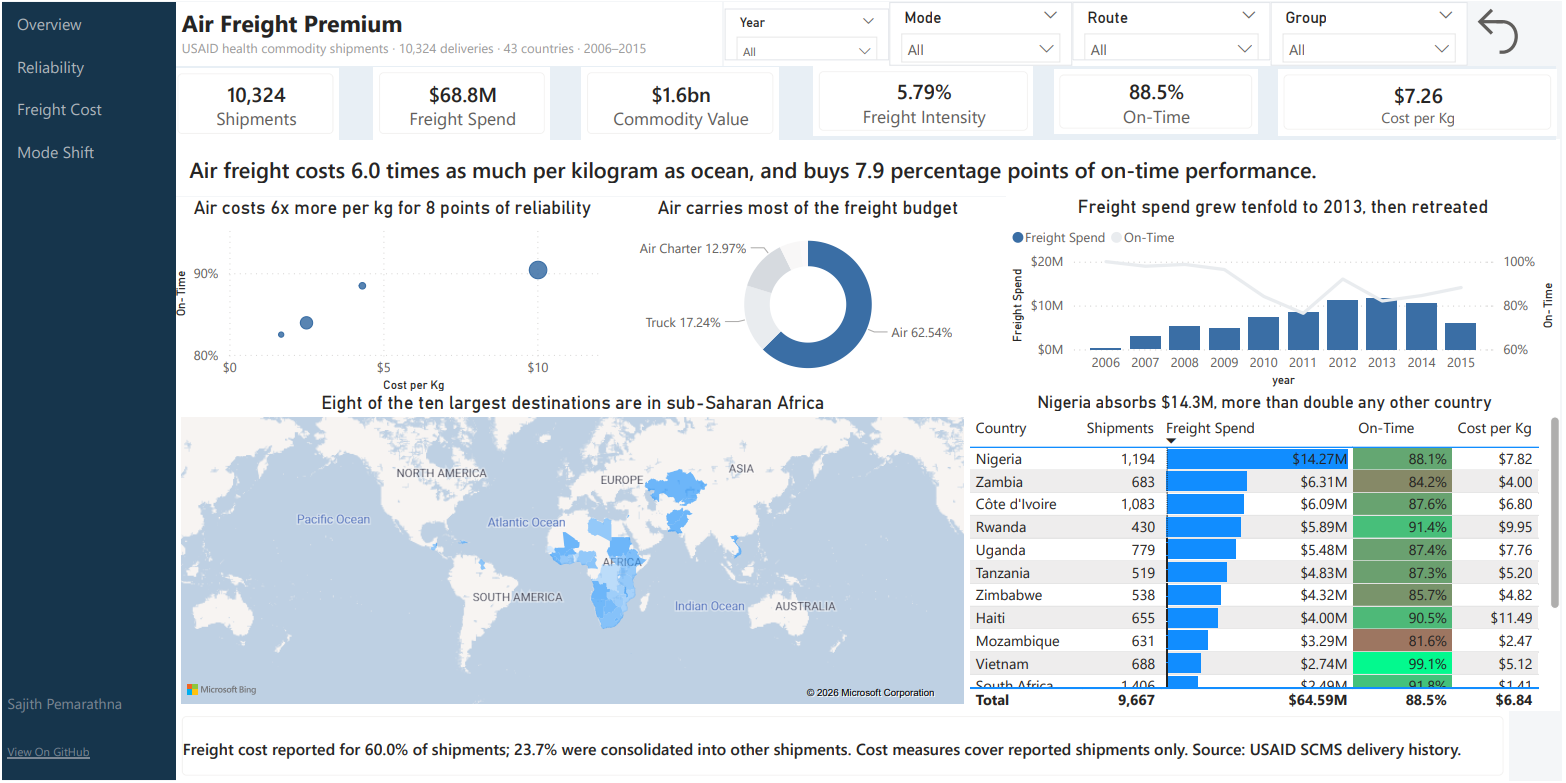

Layout of this report page (visuals, bound fields, positions):
{"tool":"powerbi","page":{"name":"Overview","canvas":[1440,720],"ordinal":0},"visuals":[{"type":"slicer","fields":{"Values":["dim_date.year"]},"box":[666.7,6.3,151.7,47.5],"z":0,"group":"g2"},{"type":"cardVisual","fields":{"Data":["_Measures.Shipments"]},"box":[156.5,60.8,153.6,66.3],"z":0,"group":"g1"},{"type":"scatterChart","title":"Air costs 6x more per kg for 8 points of reliability","fields":{"Y":["_Measures.On-Time %"],"Size":["_Measures.Shipments"],"Category":["dim_shipment_mode.Shipment Mode"],"X":["_Measures.Cost per Kg"]},"box":[159.5,179.8,401.3,179.7],"z":0},{"type":"slicer","fields":{"Values":["dim_shipment_mode.Shipment Mode"]},"box":[818.4,0,168.8,58.8],"z":1000,"group":"g2"},{"type":"cardVisual","fields":{"Data":["_Measures.Freight Intensity %"]},"box":[748.5,58.7,202.9,65.2],"z":1000,"group":"g1"},{"type":"donutChart","title":"Air carries most of the freight budget","fields":{"Category":["dim_shipment_mode.Shipment Mode"],"Y":["_Measures.Freight Spend"]},"box":[560.8,179.8,365.8,179.7],"z":1000},{"type":"slicer","fields":{"Values":["dim_product.Product Group"]},"box":[1171,0,181.6,58.8],"z":2000,"group":"g2"},{"type":"cardVisual","fields":{"Data":["_Measures.Commodity Value"]},"box":[534,60.1,182.6,66.7],"z":2000,"group":"g1"},{"type":"lineStackedColumnComboChart","title":"Freight spend grew tenfold to 2013, then retreated","fields":{"Category":["dim_date.year"],"Y":["_Measures.Freight Spend"],"Y2":["_Measures.On-Time %"]},"box":[927.3,179.2,510.4,180.5],"z":2000},{"type":"slicer","fields":{"Values":["fact_shipment.fulfil_via"]},"box":[987.2,0,183.8,53.8],"z":3000,"group":"g2"},{"type":"cardVisual","fields":{"Data":["_Measures.On-Time %"]},"box":[970.2,62,188.4,59.4],"z":3000,"group":"g1"},{"type":"filledMap","title":"Eight of the ten largest destinations are in sub-Saharan Africa","fields":{"Category":["dim_country.Country"]},"box":[160.9,359.5,732.4,295.9],"z":3000},{"type":"cardVisual","fields":{"Data":["_Measures.Cost per Kg"]},"box":[1177.5,62,256.5,60.9],"z":4000,"group":"g1"},{"type":"tableEx","title":"Nigeria absorbs $14.3M, more than double any other country","fields":{"Values":["dim_country.Country","_Measures.Shipments","_Measures.Freight Spend","_Measures.On-Time %","_Measures.Cost per Kg"]},"box":[893.3,359.5,544.6,295.9],"z":4000},{"type":"cardVisual","fields":{"Data":["_Measures.Freight Spend"]},"box":[342.7,59.6,162.3,66.7],"z":5000,"group":"g1"},{"type":"cardVisual","fields":{"Data":["_Measures.Headline"]},"box":[161,127.3,1276.6,51.9],"z":5000},{"type":"cardVisual","fields":{"Data":["_Measures.Coverage Caveat"]},"box":[160.9,655.5,1229.7,64.9],"z":6000},{"type":"group","id":"g1","title":"Group 1","box":[156.5,58.7,1277.5,68.5],"z":7000},{"type":"group","id":"g2","title":"Group 2","box":[666.7,0,685.5,59.4],"z":8000},{"type":"textbox","box":[160.9,0,504.3,59.4],"z":9000},{"type":"actionButton","box":[1354.1,0.1,85.1,54.1],"z":10000},{"type":"shape","box":[0,0,159.7,719.4],"z":11000},{"type":"actionButton","box":[0,0,160,40],"z":12000},{"type":"actionButton","box":[0,40.2,159.8,40.2],"z":13000},{"type":"actionButton","box":[0,77.9,159.7,40.3],"z":14000},{"type":"actionButton","box":[0,118.2,159.7,39],"z":15000},{"type":"textbox","box":[0,677.6,159.7,41.8],"z":16000},{"type":"textbox","box":[0,634.3,159.7,41.8],"z":17000}]}

Visuals, with their boxes on the page's 1440x720 design canvas (x1, y1, x2, y2). These are canvas units, not pixel positions in the 1566x783 screenshot, which may show the page scaled, cropped or inside an application window:
slicer - dim_date.year: region(667, 6, 818, 54)
cardVisual - _Measures.Shipments: region(156, 61, 310, 127)
"Air costs 6x more per kg for 8 points of reliability" scatterChart: region(160, 180, 561, 360)
slicer - dim_shipment_mode.Shipment Mode: region(818, 0, 987, 59)
cardVisual - _Measures.Freight Intensity %: region(748, 59, 951, 124)
"Air carries most of the freight budget" donutChart: region(561, 180, 927, 360)
slicer - dim_product.Product Group: region(1171, 0, 1353, 59)
cardVisual - _Measures.Commodity Value: region(534, 60, 717, 127)
"Freight spend grew tenfold to 2013, then retreated" lineStackedColumnComboChart: region(927, 179, 1438, 360)
slicer - fact_shipment.fulfil_via: region(987, 0, 1171, 54)
cardVisual - _Measures.On-Time %: region(970, 62, 1159, 121)
"Eight of the ten largest destinations are in sub-Saharan Africa" filledMap: region(161, 360, 893, 655)
cardVisual - _Measures.Cost per Kg: region(1178, 62, 1434, 123)
"Nigeria absorbs $14.3M, more than double any other country" tableEx: region(893, 360, 1438, 655)
cardVisual - _Measures.Freight Spend: region(343, 60, 505, 126)
cardVisual - _Measures.Headline: region(161, 127, 1438, 179)
cardVisual - _Measures.Coverage Caveat: region(161, 656, 1391, 720)
"Group 1" group: region(156, 59, 1434, 127)
"Group 2" group: region(667, 0, 1352, 59)
textbox: region(161, 0, 665, 59)
actionButton: region(1354, 0, 1439, 54)
shape: region(0, 0, 160, 719)
actionButton: region(0, 0, 160, 40)
actionButton: region(0, 40, 160, 80)
actionButton: region(0, 78, 160, 118)
actionButton: region(0, 118, 160, 157)
textbox: region(0, 678, 160, 719)
textbox: region(0, 634, 160, 676)
